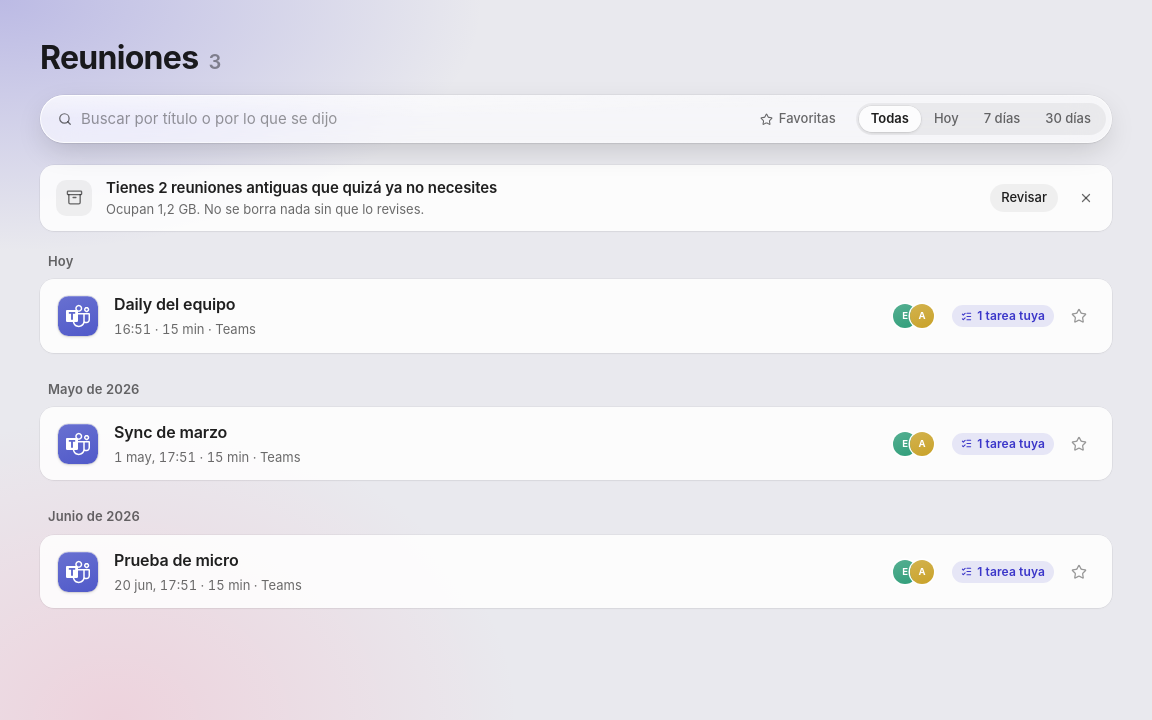
sugerencia de limpieza de reuniones antiguas › «Recordármelo más tarde» desde la hoja la cierra y pospone el aviso
The image size is (1152, 720).
Click the button "Revisar": [1024, 198] box x1=990 y1=184 x2=1058 y2=212
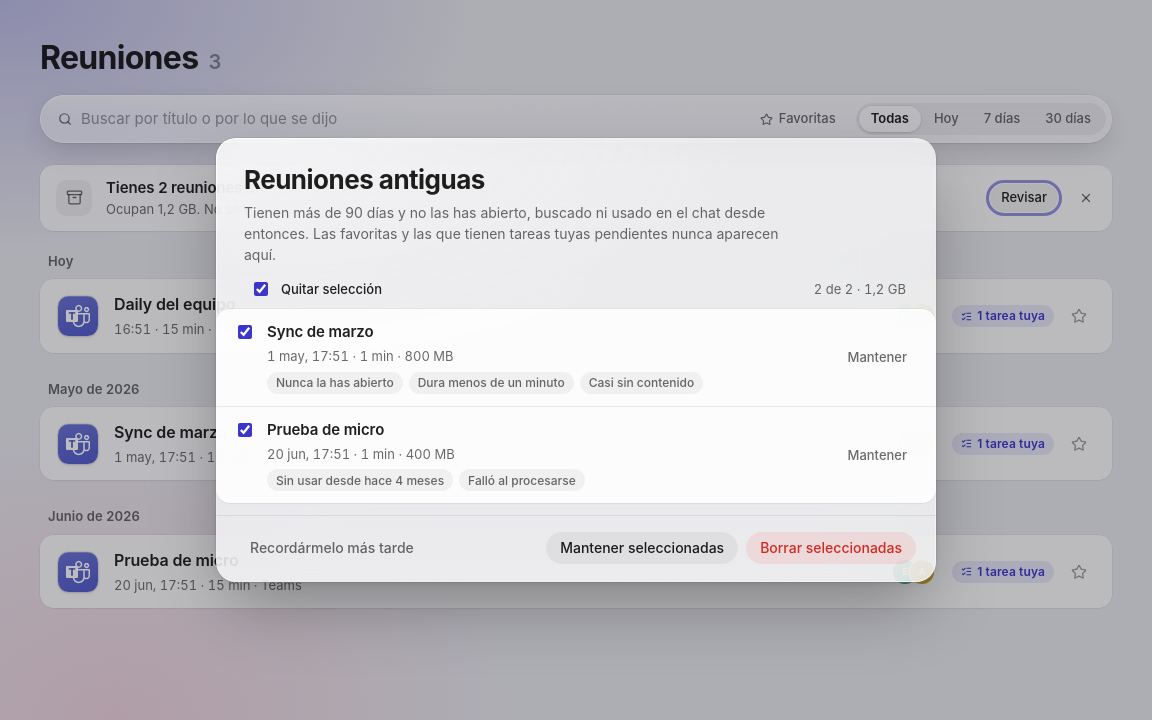
Click the button "Recordármelo más tarde": [332, 548] box x1=236 y1=532 x2=428 y2=564
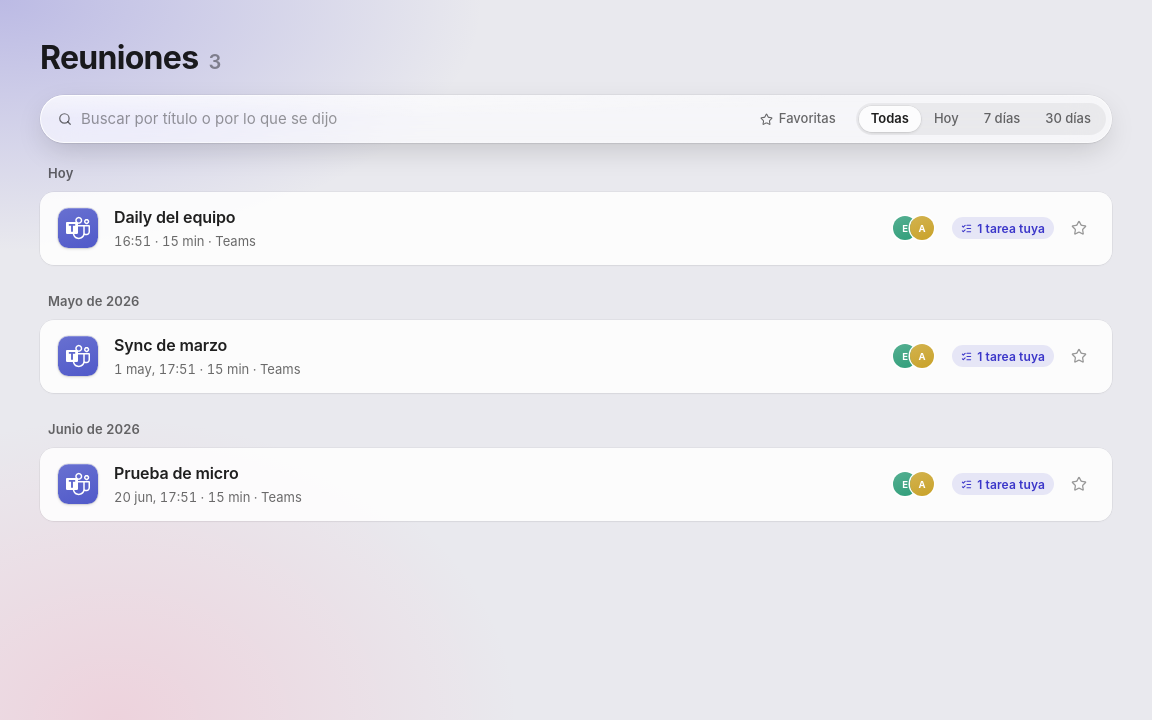
Expected: the text "reuniones antiguas" is gone
